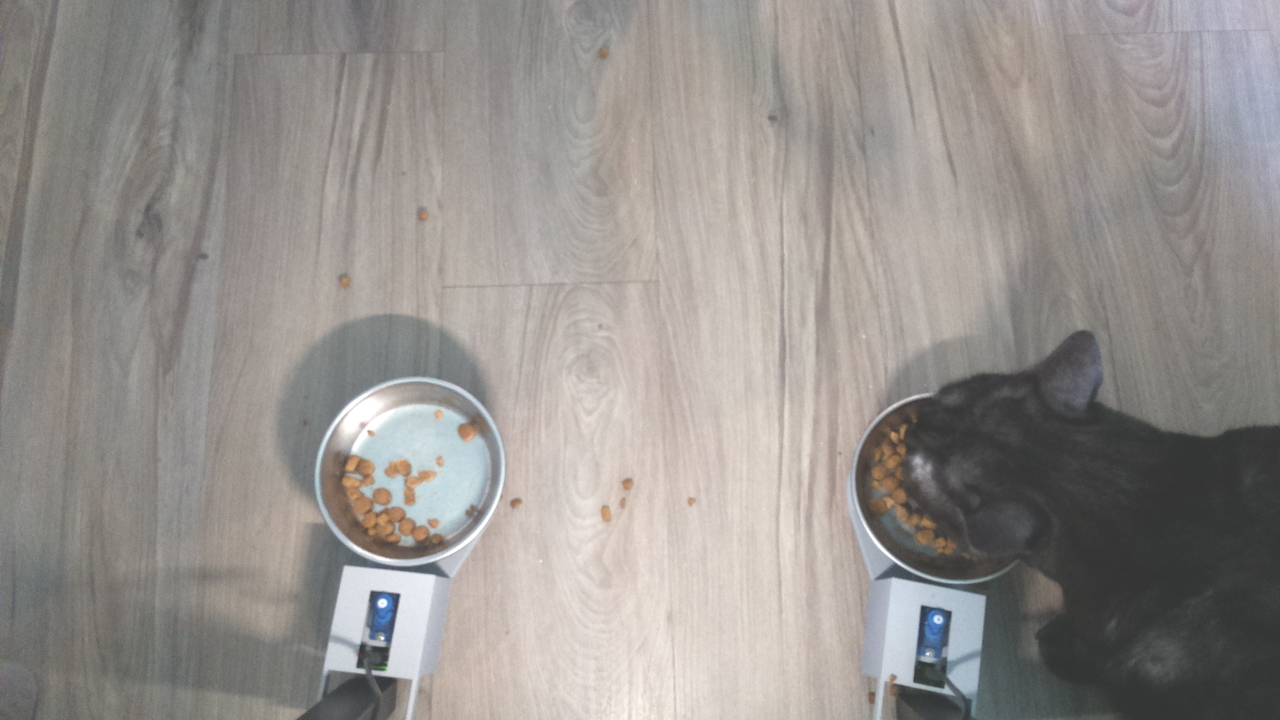open_bowl: (312, 372, 508, 575)
saki_eating: (833, 320, 1136, 596)
